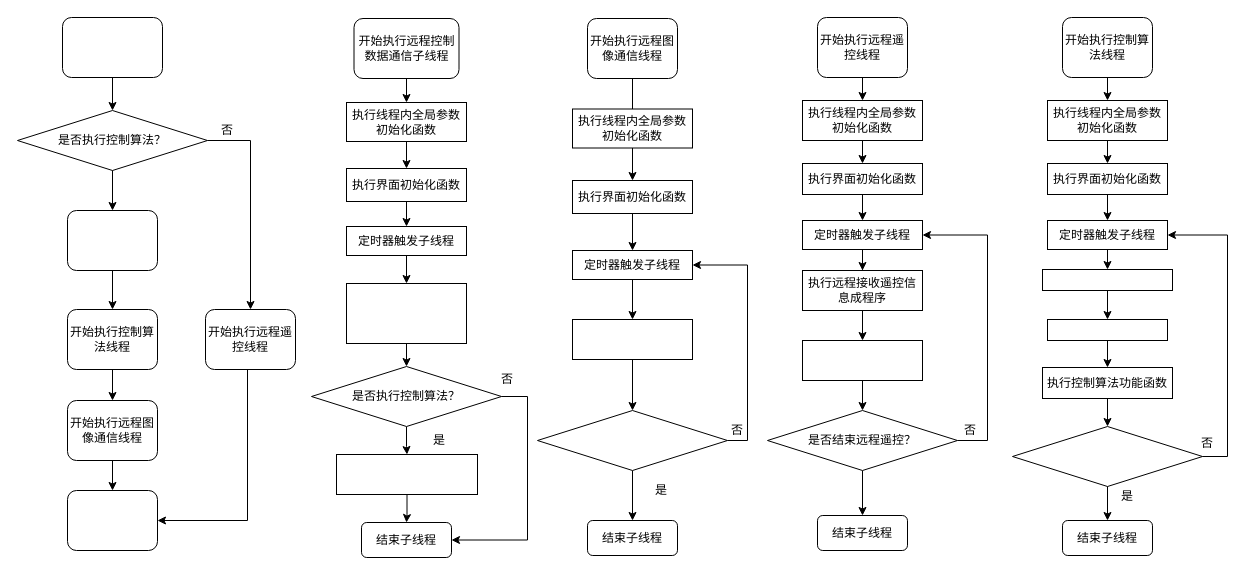
This 1253x575 diagram has some shape labels left out. Here are the shapes that lost their labels. From the top down, the box of each, then its label:
(62, 16, 162, 78): 开始运行SRUSV控制主线程
(66, 210, 158, 270): 开始执行远程控制数据通信线程
(1042, 268, 1172, 290): 执行轨迹生成算法函数
(346, 282, 466, 344): 调用Mavlink数据接收程序（接收SRUSV运行及姿态数据）
(1046, 318, 1168, 340): 执行制导算法函数
(572, 318, 692, 360): 调用SDK包执行图像读取程序
(802, 340, 922, 380): 向电机输出对应的PWM信号
(536, 410, 728, 470): 是否执结束读取图像？
(1012, 426, 1202, 486): 是否控制算法？
(336, 454, 478, 494): 调用Mavlink数据发送程序（发送SRUSV控制指令）
(66, 490, 158, 550): 结束主线程
